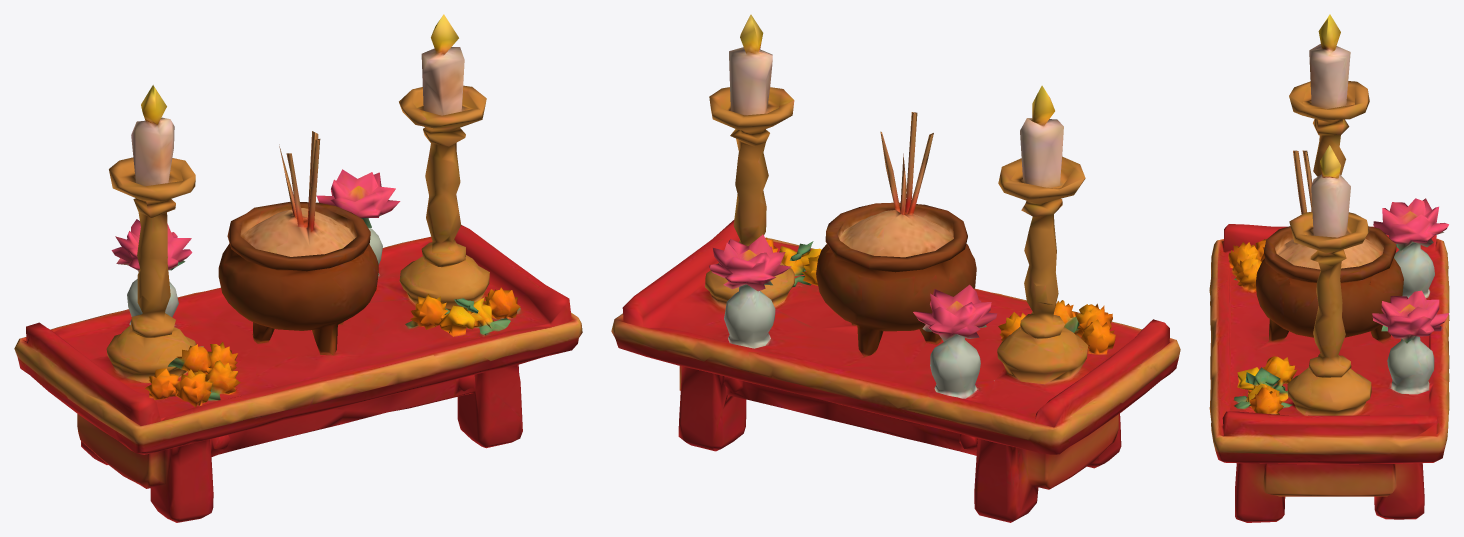
Rendered from offering_table.glb.
The picture shows the model from 3 angles, left to right: view 1: azimuth 30°, elevation 25°; view 2: azimuth 150°, elevation 25°; view 3: azimuth 270°, elevation 25°; orthographic projection. The views are drawn at different scales.
Parts seen in each view (by area): view 1: tripo_node_2d1e1992-c72b-46a2-bec8-a15fd621cf3a; view 2: tripo_node_2d1e1992-c72b-46a2-bec8-a15fd621cf3a; view 3: tripo_node_2d1e1992-c72b-46a2-bec8-a15fd621cf3a.
Boxes of the visible parts, bbox=[...] form: tripo_node_2d1e1992-c72b-46a2-bec8-a15fd621cf3a: bbox=[14, 14, 582, 522]; tripo_node_2d1e1992-c72b-46a2-bec8-a15fd621cf3a: bbox=[611, 14, 1180, 522]; tripo_node_2d1e1992-c72b-46a2-bec8-a15fd621cf3a: bbox=[1209, 14, 1449, 522].
Size of the model in its own units: 1 by 0.8303 by 0.4925.
1 material, 1 textured.
